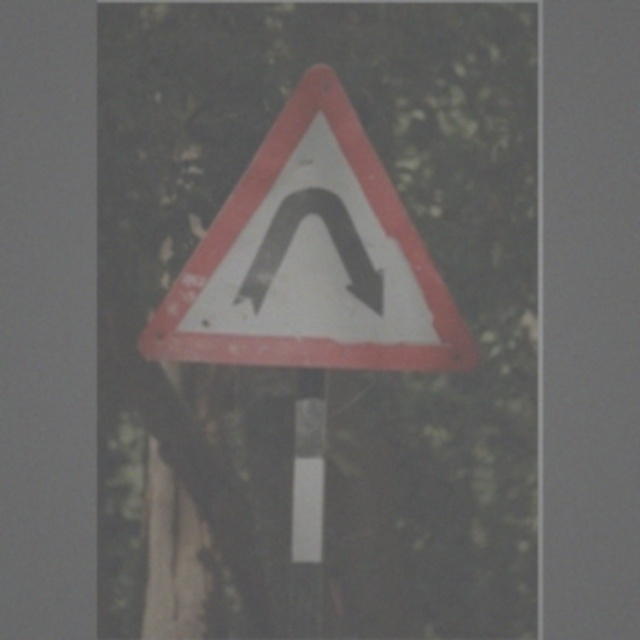Right_Hair_Pin_Bend: (149, 65, 472, 370)
